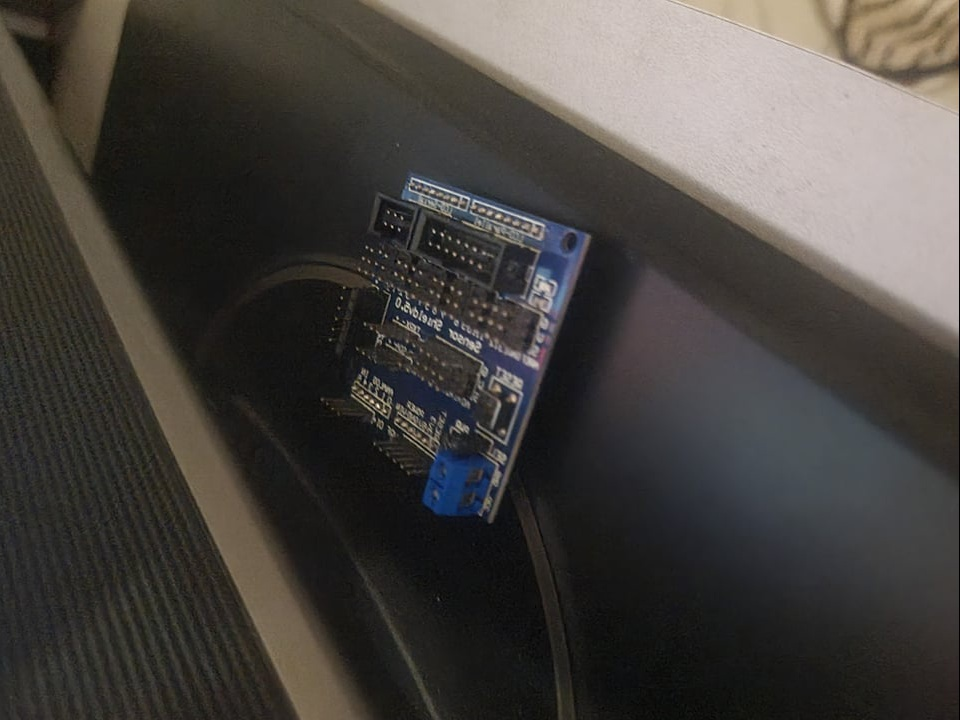5V EXPANSION: (315, 174, 598, 529)
